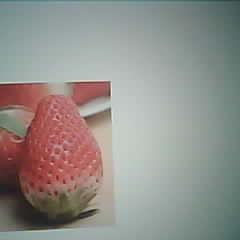straw-ripe: (21, 95, 104, 215)
